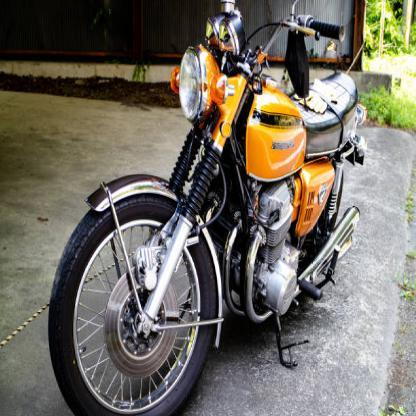Motorcycle: (39, 0, 376, 415)
